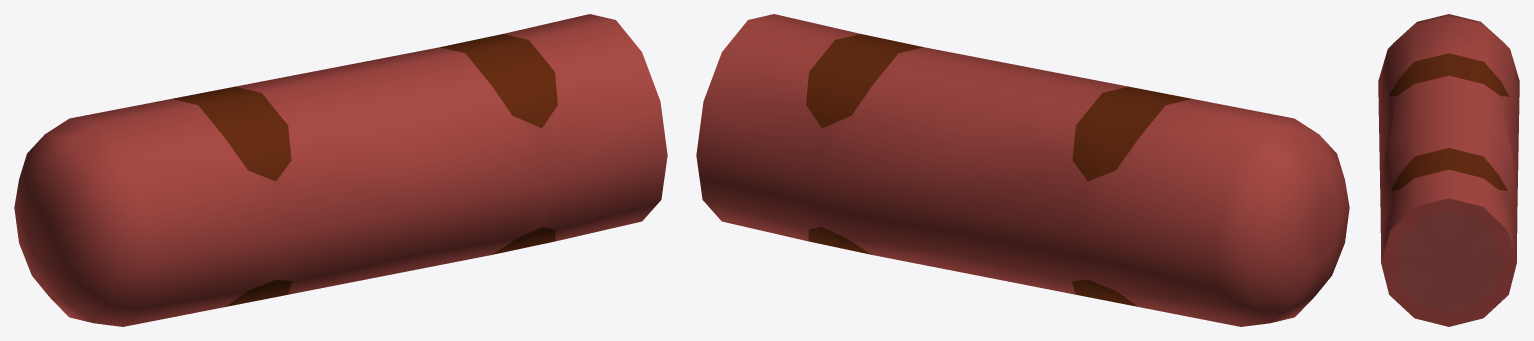
The model's file is Sausage_gril_half.003.fbx.
The picture shows the model from 3 angles, left to right: view 1: azimuth 30°, elevation 25°; view 2: azimuth 150°, elevation 25°; view 3: azimuth 270°, elevation 25°; orthographic projection. The views are drawn at different scales.
Visible parts, largest first — view 1: Sausage_gril_half.003; view 2: Sausage_gril_half.003; view 3: Sausage_gril_half.003.
Boxes of the visible parts, <box> form: Sausage_gril_half.003: <box>14,14,667,326</box>; Sausage_gril_half.003: <box>696,14,1349,326</box>; Sausage_gril_half.003: <box>1378,14,1519,326</box>.
Bounding box in the file's own units: 79.77 × 25.88 × 28.84.
